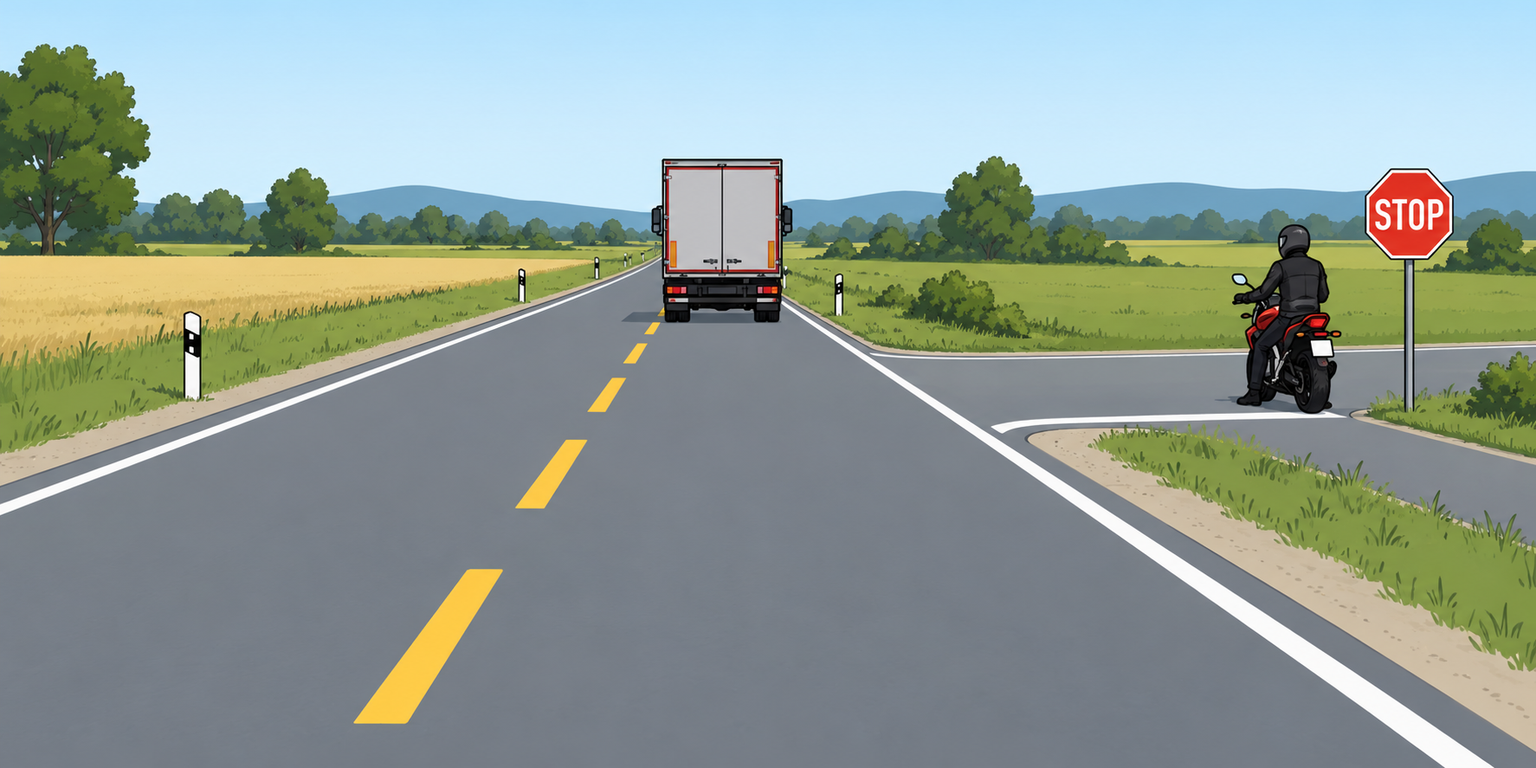motorcycle: (1223, 223, 1339, 415)
person: (1236, 224, 1331, 397)
stop_sign: (1364, 166, 1455, 263)
truck: (651, 158, 794, 326)
